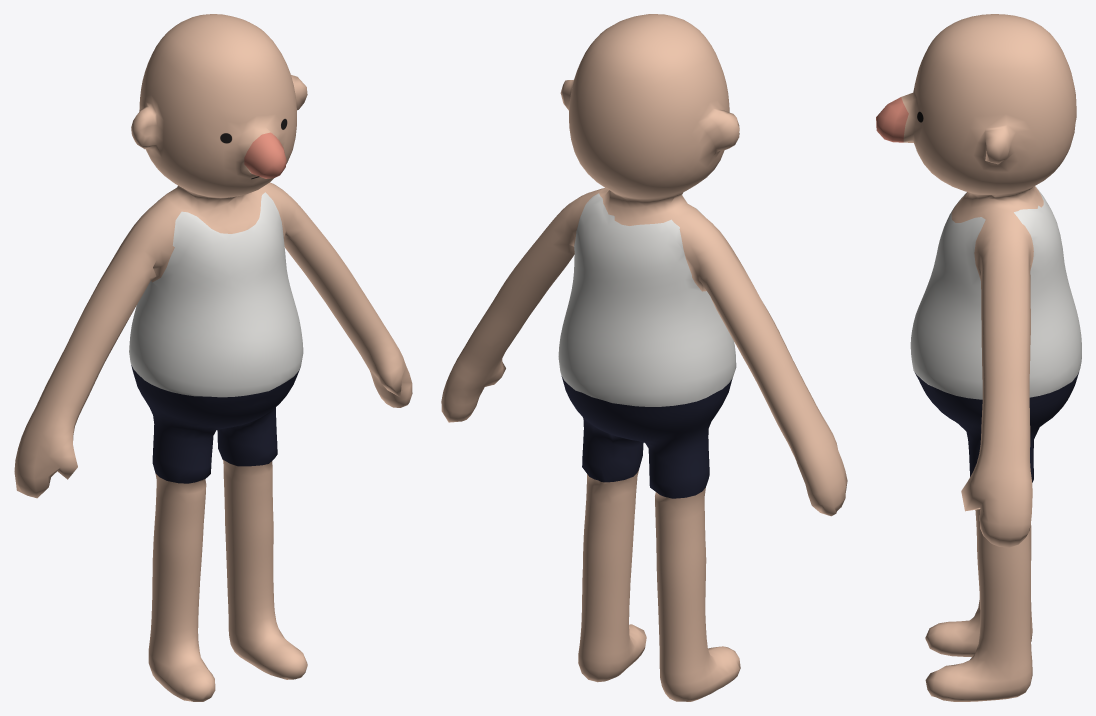
The model's file is base_clean.glb.
The picture shows the model from 3 angles, left to right: view 1: azimuth 30°, elevation 25°; view 2: azimuth 150°, elevation 25°; view 3: azimuth 270°, elevation 25°; orthographic projection.
Visible parts, largest first — view 1: Body; view 2: Body; view 3: Body.
Boxes of the visible parts, box(x1,y1,x2,y2) form: Body: box(14, 14, 412, 701); Body: box(441, 14, 847, 701); Body: box(876, 14, 1081, 701).
Bounding box in the file's own units: 1.13 × 1.81 × 0.5165.
Materials: 5 (1 with a texture image).
